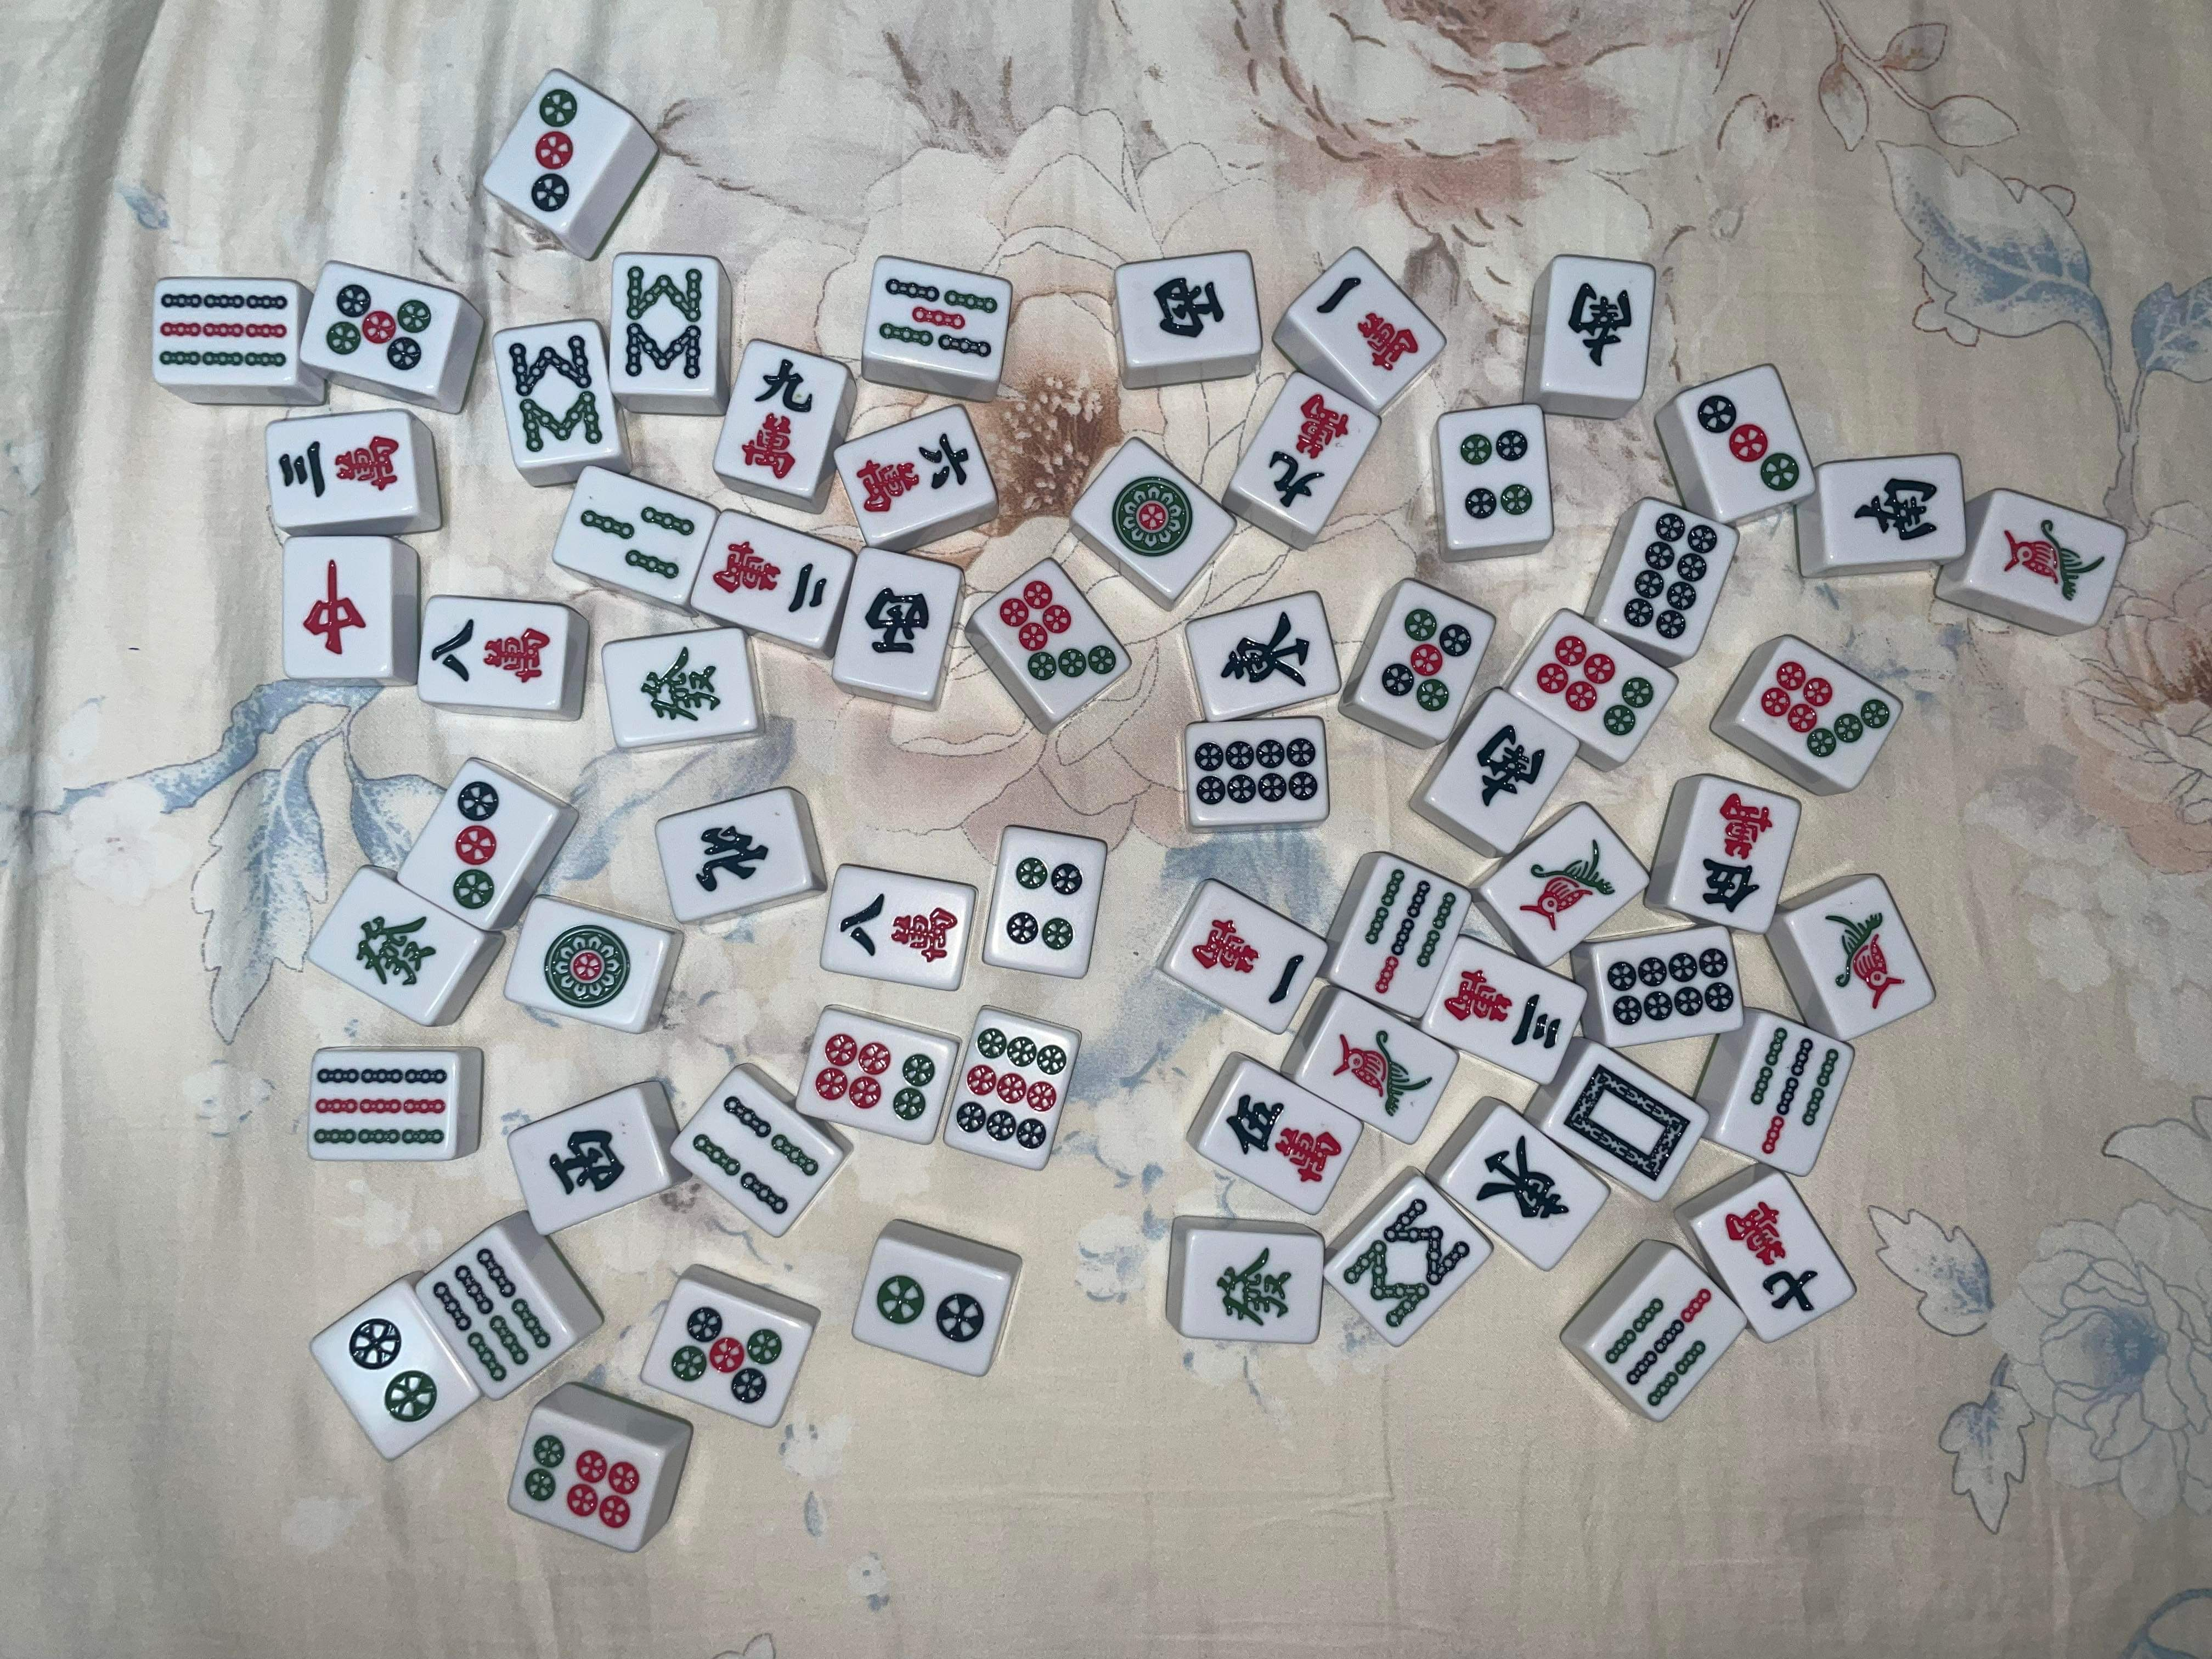b-1: (2000, 519, 2106, 601)
b-3: (578, 505, 695, 579)
b-4: (691, 1096, 820, 1216)
b-5: (878, 275, 1001, 361)
b-6: (432, 1249, 554, 1384)
b-7: (1604, 1288, 1712, 1408), (1364, 868, 1458, 995), (1750, 1026, 1839, 1154)
b-8: (1341, 1199, 1470, 1330), (507, 335, 606, 453), (622, 261, 704, 380)
b-9: (312, 1066, 449, 1154), (155, 289, 287, 369)
c-1: (1317, 275, 1421, 373), (1190, 918, 1305, 1006)
c-2: (714, 540, 831, 613)
c-3: (1442, 967, 1562, 1051), (275, 434, 404, 504)
c-5: (1224, 1093, 1345, 1185), (1702, 791, 1775, 917)
c-6: (853, 434, 974, 518)
c-7: (1726, 1201, 1820, 1314)
c-8: (432, 617, 550, 692), (838, 894, 961, 964)
c-9: (1264, 390, 1350, 509), (740, 357, 817, 477)
d-1: (1515, 838, 1618, 931), (1332, 1028, 1433, 1117), (1824, 911, 1907, 1009), (542, 924, 632, 1009), (1109, 474, 1193, 561)
d-2: (347, 1317, 439, 1422), (876, 1276, 984, 1345)
d-3: (1698, 394, 1801, 490), (529, 89, 582, 213), (453, 781, 502, 911)
d-4: (1005, 856, 1083, 951), (1458, 429, 1533, 521)
d-5: (671, 1307, 784, 1406), (1378, 606, 1474, 714), (322, 282, 432, 371)
d-6: (1536, 636, 1655, 735), (524, 1434, 641, 1532), (815, 1032, 935, 1121)
d-7: (1759, 660, 1892, 758), (1000, 580, 1118, 681)
d-8: (1620, 514, 1719, 640), (1604, 948, 1737, 1026), (1193, 735, 1320, 810)
honors-east: (1474, 1134, 1571, 1223), (1219, 612, 1312, 690)
honors-green: (352, 913, 439, 990), (1214, 1244, 1292, 1328), (641, 647, 721, 721)
honors-north: (695, 823, 772, 894)
honors-red: (300, 558, 368, 657)
honors-south: (1566, 281, 1634, 369), (1475, 725, 1545, 807), (1853, 476, 1940, 540)
honors-west: (545, 1127, 631, 1199), (860, 586, 934, 660), (1151, 275, 1228, 345)
honors-white: (1564, 1061, 1693, 1183)
